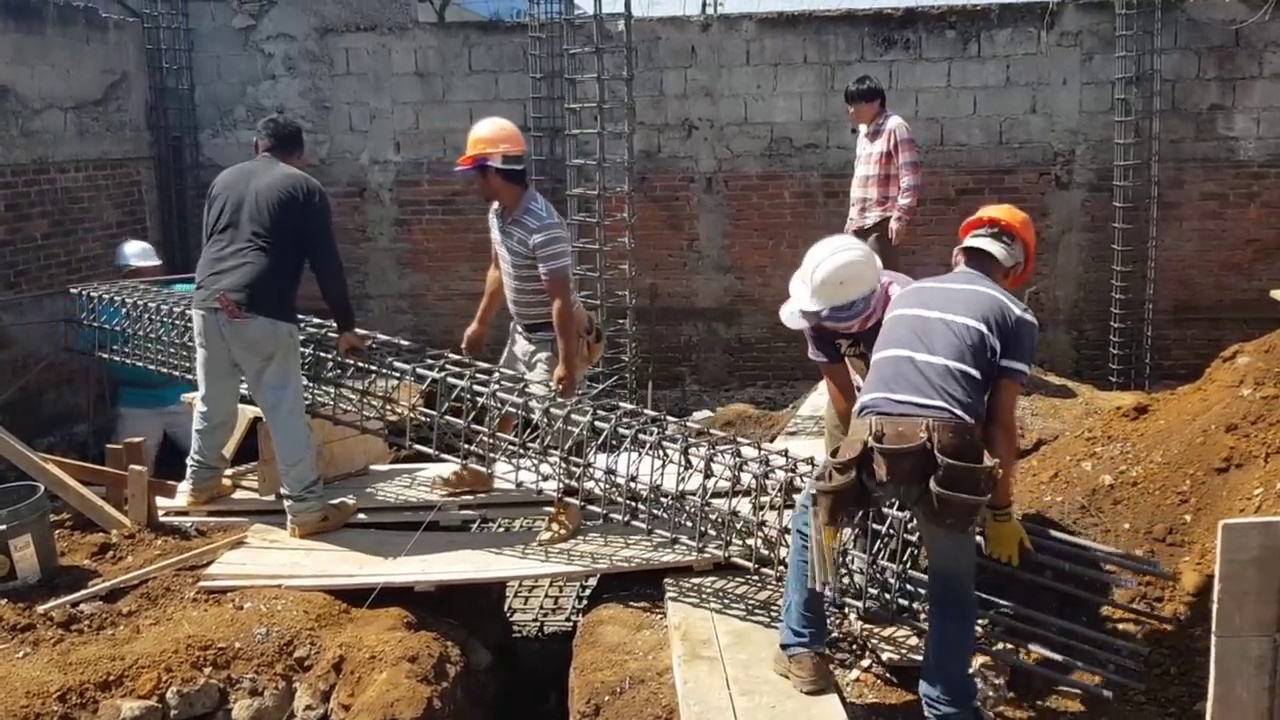helmet: (788, 237, 881, 318), (964, 202, 1044, 286), (451, 112, 530, 175), (114, 241, 161, 272)
helmet-off: (248, 117, 306, 170), (846, 73, 889, 125)
helmet-on: (788, 230, 896, 344), (943, 200, 1045, 287), (454, 118, 529, 210), (113, 242, 162, 293)
person: (780, 200, 1050, 720), (178, 109, 367, 549), (452, 111, 598, 522), (774, 221, 917, 462), (98, 234, 197, 475), (832, 73, 923, 252)
